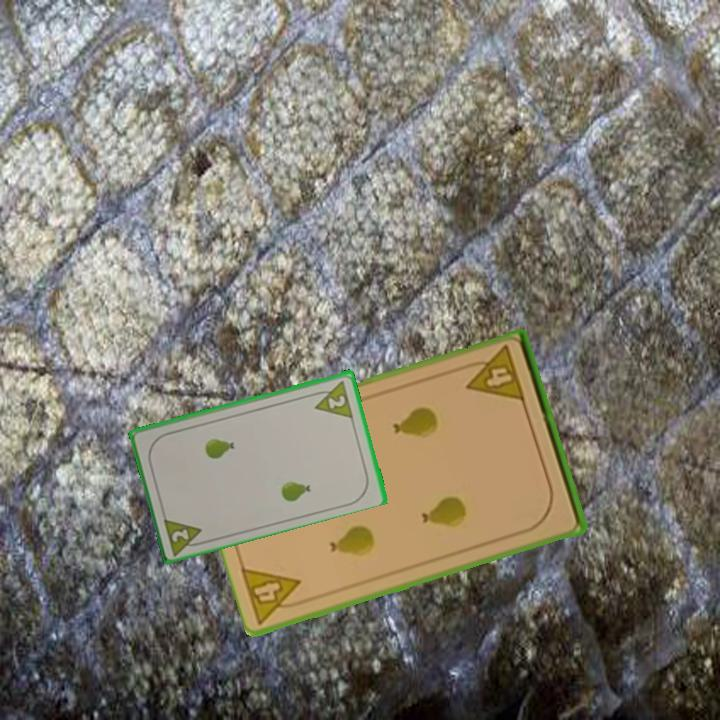2p: (160, 513, 209, 557), (308, 376, 356, 420)
4p: (237, 563, 312, 627), (459, 342, 528, 406)
